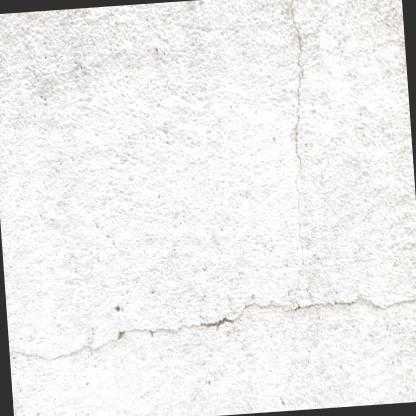crack: (9, 288, 416, 365), (288, 0, 309, 285)
